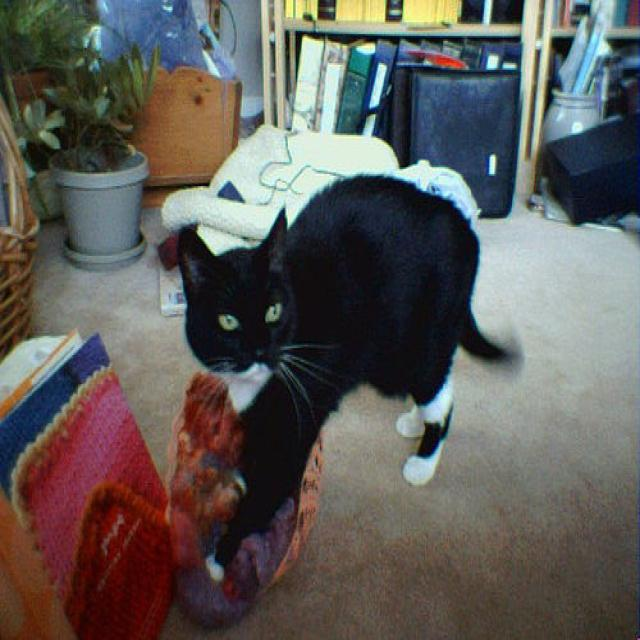cat: (173, 170, 507, 590)
pottedplant: (24, 42, 156, 276)
